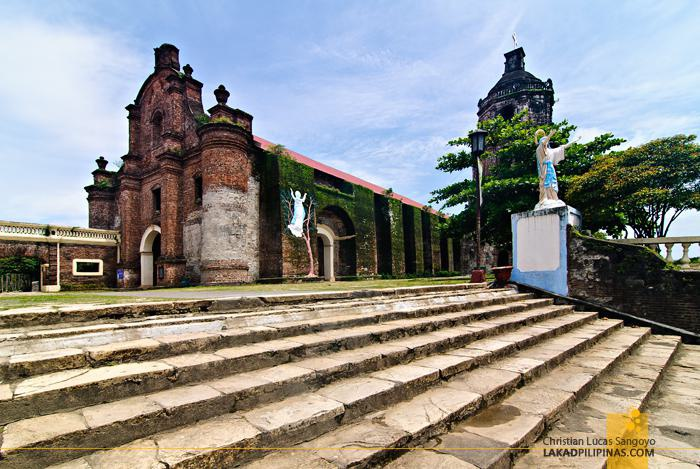santa_maria_church_santa_maria_ilocos_sur: (77, 36, 250, 291)
unfinished_paint: (178, 181, 260, 272)
water_damage_or_mold: (281, 161, 307, 184), (361, 188, 375, 224), (315, 188, 339, 208), (391, 210, 403, 247), (414, 211, 424, 253), (431, 215, 441, 251), (348, 199, 358, 220)
